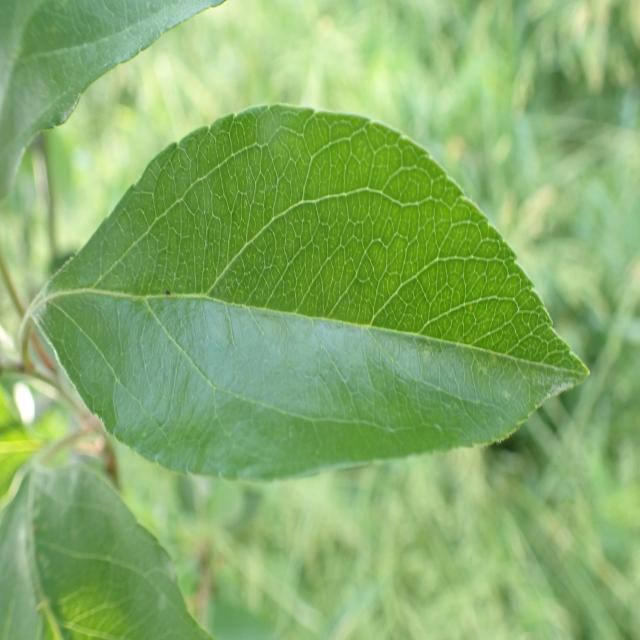healthy: (39, 103, 592, 482), (0, 0, 227, 199), (1, 461, 216, 640)
